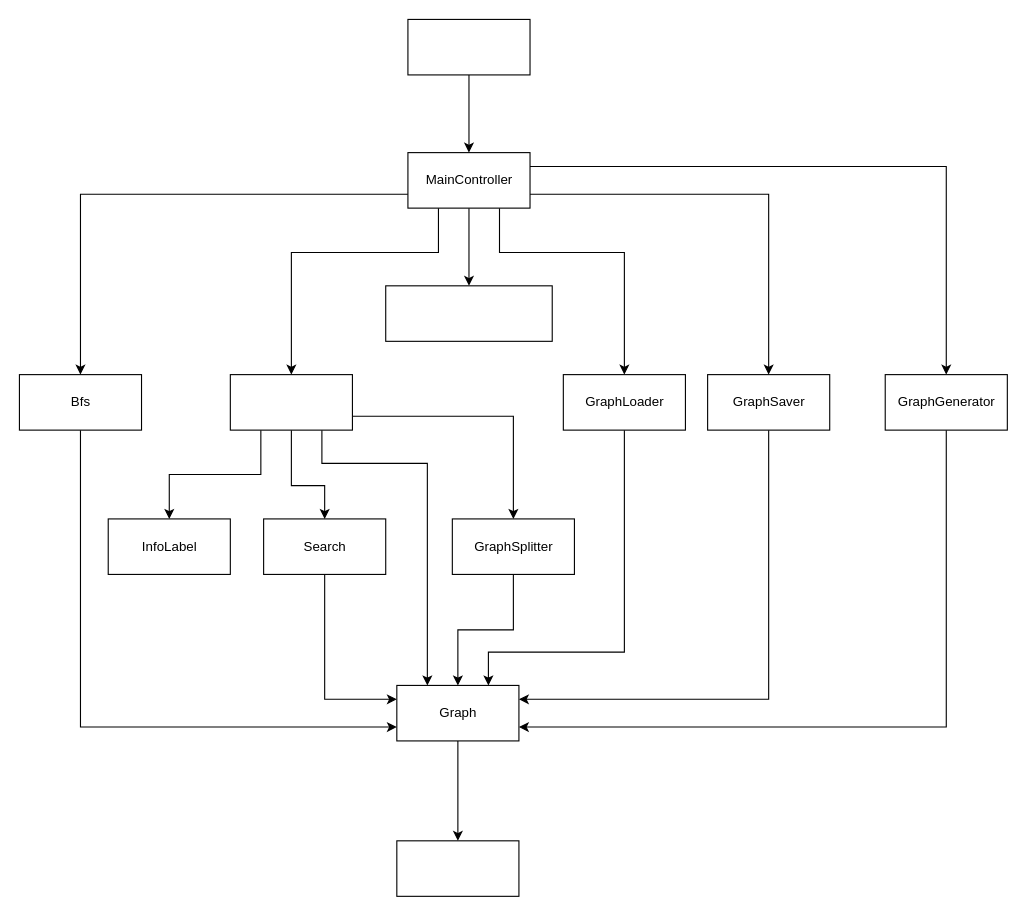
The diagram is 1027 pixels wide and 916 high, and some of its shapes have lost their labels. Here are the shapes that lost their labels. From the top down, the box of each, then its label:
(407, 18, 530, 75): MainApplication
(385, 285, 552, 341): ZoomableScrollPane
(229, 374, 352, 430): GraphDrawer
(396, 840, 519, 896): Vertex
